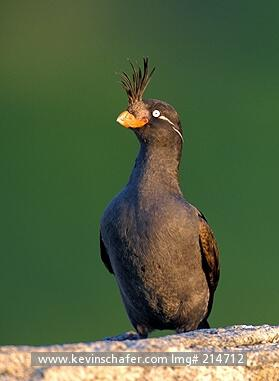005.Crested_Auklet: (100, 55, 224, 347)
